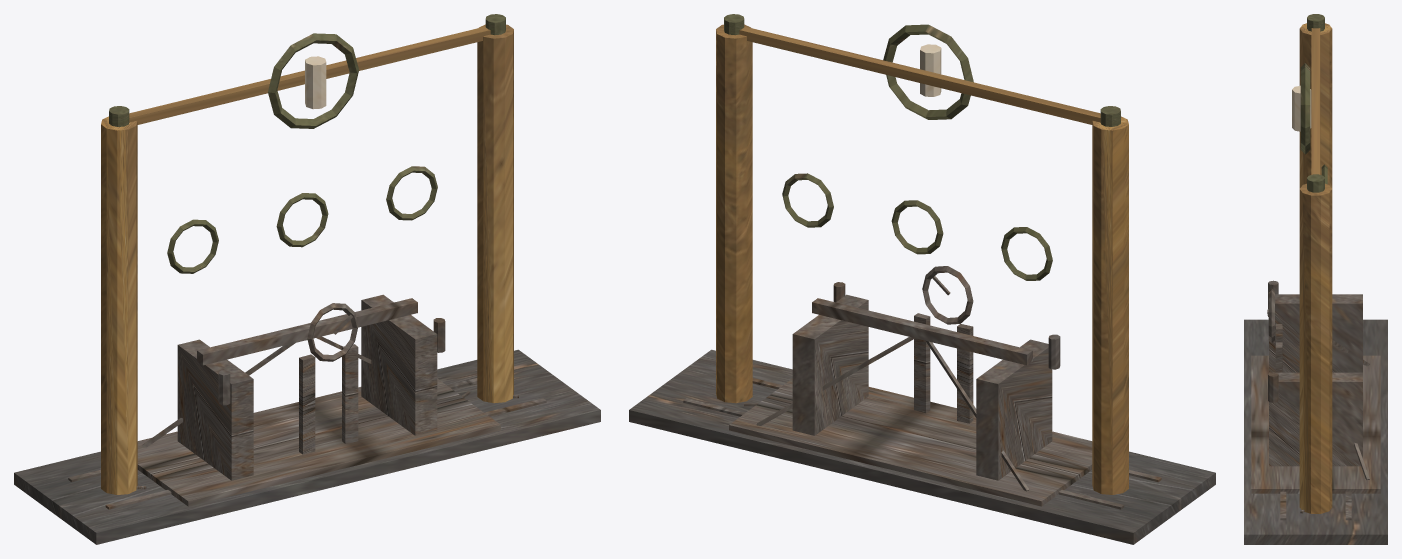
Rendered from north-basin-waygate.glb.
The picture shows the model from 3 angles, left to right: view 1: azimuth 30°, elevation 25°; view 2: azimuth 150°, elevation 25°; view 3: azimuth 270°, elevation 25°; orthographic projection. The views are drawn at different scales.
Parts seen in each view (by area): view 1: north-basin-waygate; view 2: north-basin-waygate; view 3: north-basin-waygate.
Part boxes in pixels (box(x1,y1,x2,y2)): north-basin-waygate: box(14, 14, 600, 544); north-basin-waygate: box(629, 14, 1215, 544); north-basin-waygate: box(1244, 14, 1387, 544).
Bounding box in the file's own units: 10.6 × 8.52 × 3.
1 material, 1 textured.
